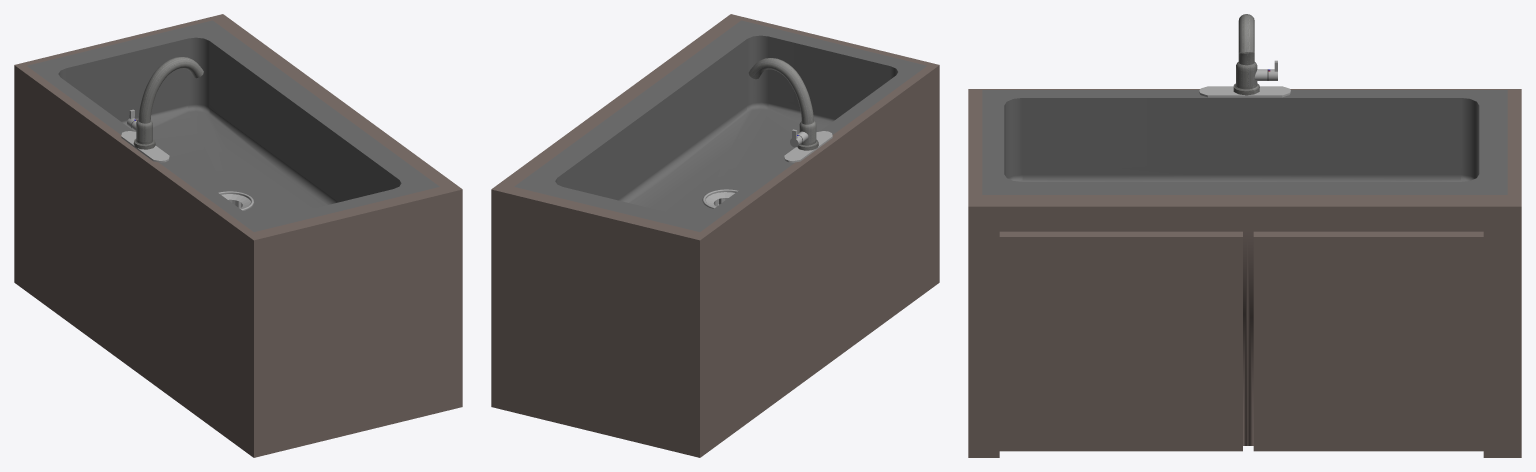
Rendered from Kitchen sink.fbx.
3 views of the same model, side by side, from view 1: azimuth 30°, elevation 25°; view 2: azimuth 150°, elevation 25°; view 3: azimuth 270°, elevation 25° (orthographic). The views are drawn at different scales.
Parts seen in each view (by area): view 1: polySurface11; view 2: polySurface11; view 3: polySurface11.
Part boxes in pixels (x1=…): polySurface11: x1=14, y1=14, x2=462, y2=457; polySurface11: x1=491, y1=14, x2=939, y2=457; polySurface11: x1=968, y1=14, x2=1521, y2=457.
Bounding box in the file's own units: 10.68 × 14.7 × 21.22.
11 materials, 1 textured.
